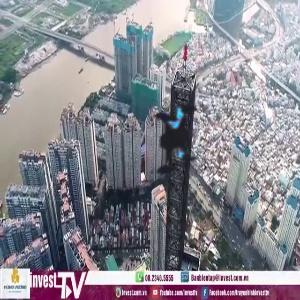drone: (101, 65, 249, 213)
